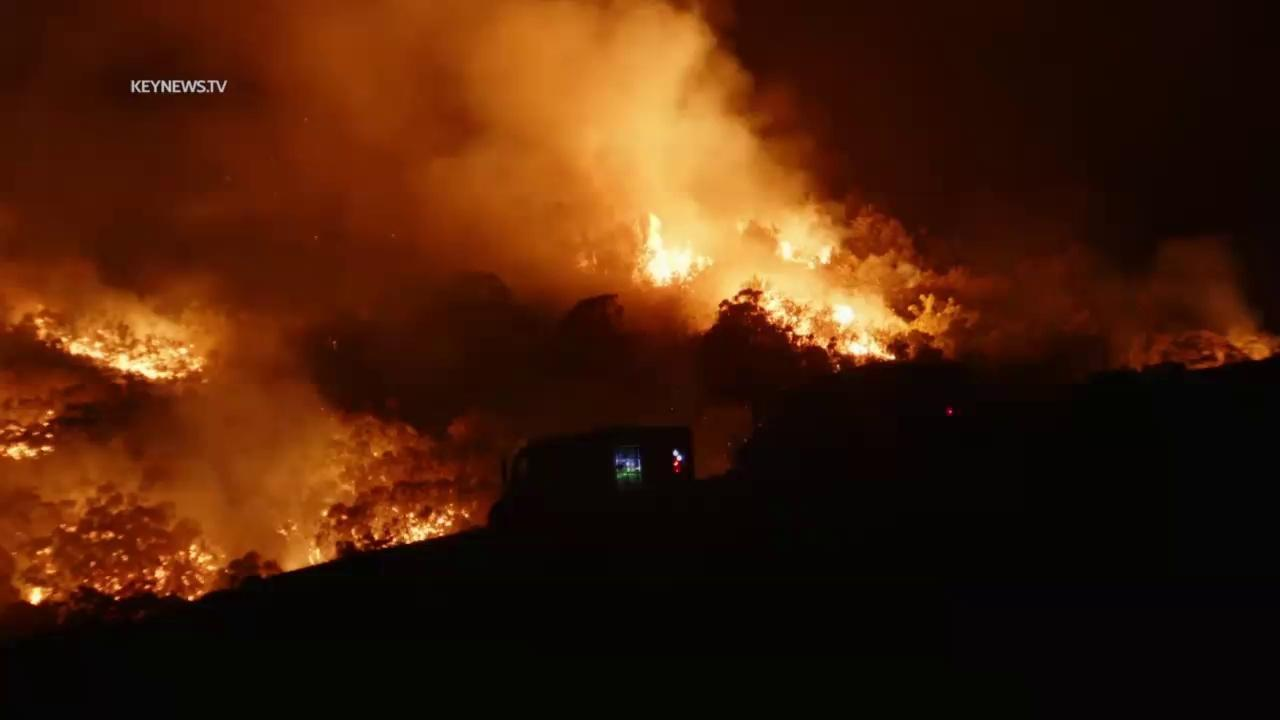fire: (17, 293, 217, 390), (758, 284, 903, 366), (84, 528, 234, 604), (601, 206, 716, 295), (340, 499, 474, 550), (735, 215, 839, 272), (0, 405, 59, 464), (23, 583, 49, 611), (303, 538, 328, 567)
smoke: (1, 0, 1280, 648)
